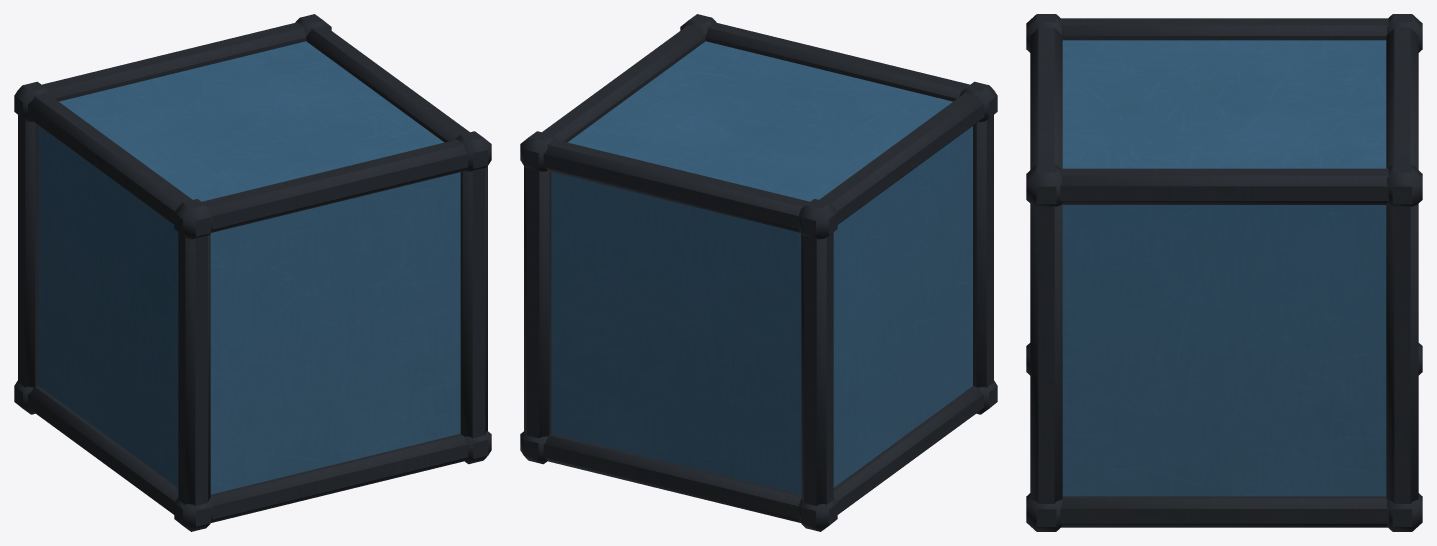
File: cargo_crate_colony.glb
The picture shows the model from 3 angles, left to right: view 1: azimuth 30°, elevation 25°; view 2: azimuth 150°, elevation 25°; view 3: azimuth 270°, elevation 25°; orthographic projection. The views are drawn at different scales.
Parts seen in each view (by area): view 1: cargo_crate_colony; view 2: cargo_crate_colony; view 3: cargo_crate_colony.
Part boxes in pixels (bbox=[...]): cargo_crate_colony: bbox=[14, 14, 491, 531]; cargo_crate_colony: bbox=[520, 14, 997, 531]; cargo_crate_colony: bbox=[1026, 14, 1422, 531].
Size of what is drawn, in the model's own units: 1.23 by 1.22 by 1.23.
Materials: 2 (2 with a texture image).
